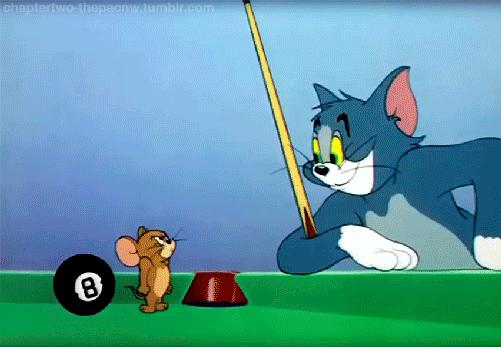jerry: (114, 225, 185, 314)
